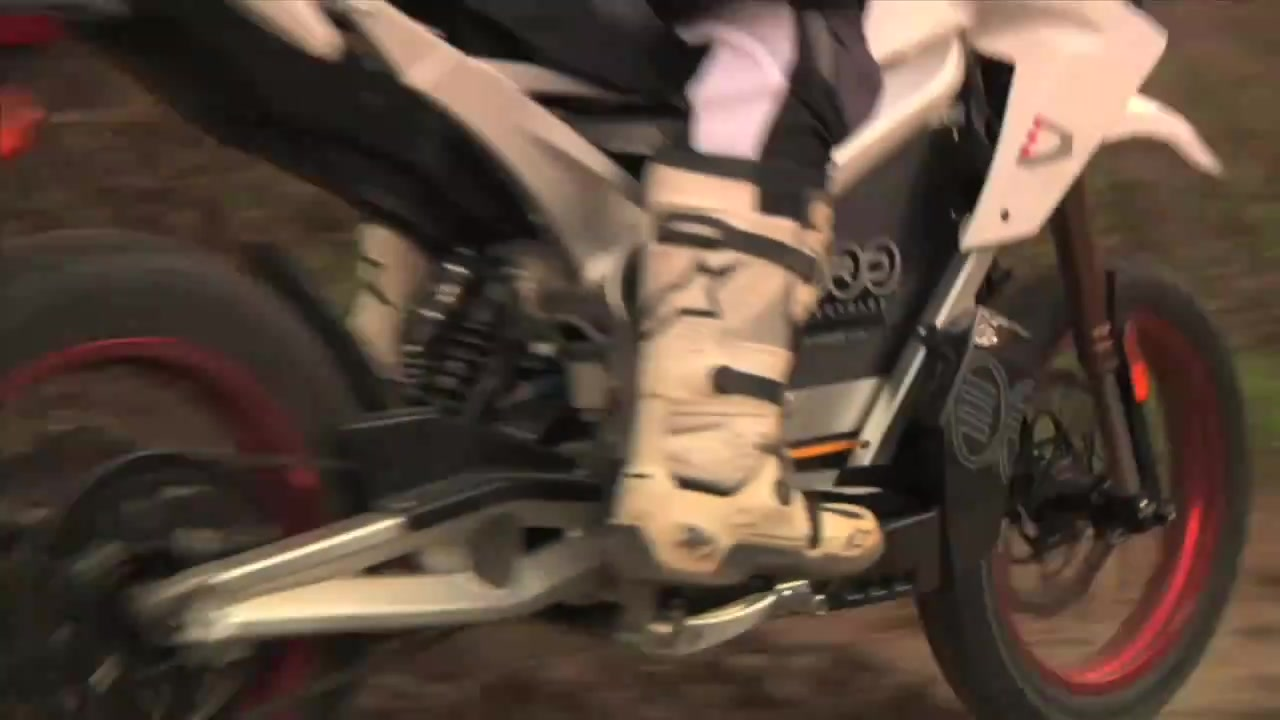motorbike: (1, 3, 1277, 720)
